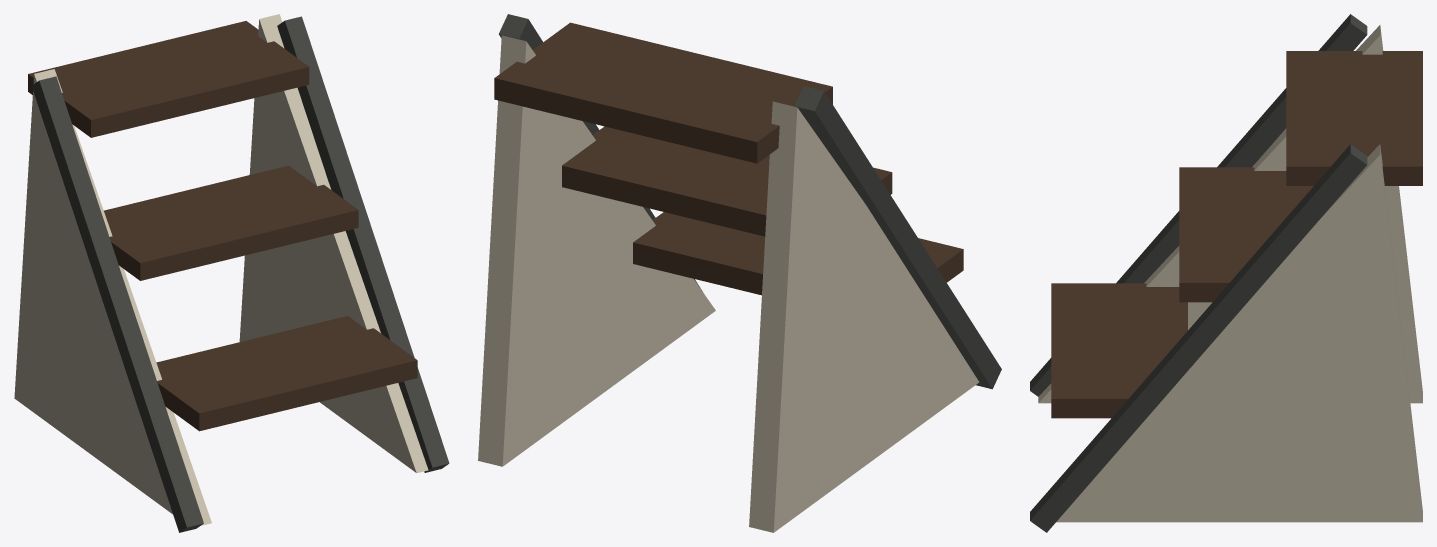
Rendered from stool.glb.
3 renders of one model, left to right at view 1: azimuth 30°, elevation 25°; view 2: azimuth 150°, elevation 25°; view 3: azimuth 270°, elevation 25°, orthographic. The views are drawn at different scales.
Parts seen in each view (by area): view 1: stool; view 2: stool; view 3: stool.
Boxes of the visible parts, bbox=[...] form: stool: bbox=[14, 14, 449, 532]; stool: bbox=[478, 14, 1001, 532]; stool: bbox=[1030, 14, 1422, 532].
Bounding box in the file's own units: 0.77 × 0.981 × 0.9196.
